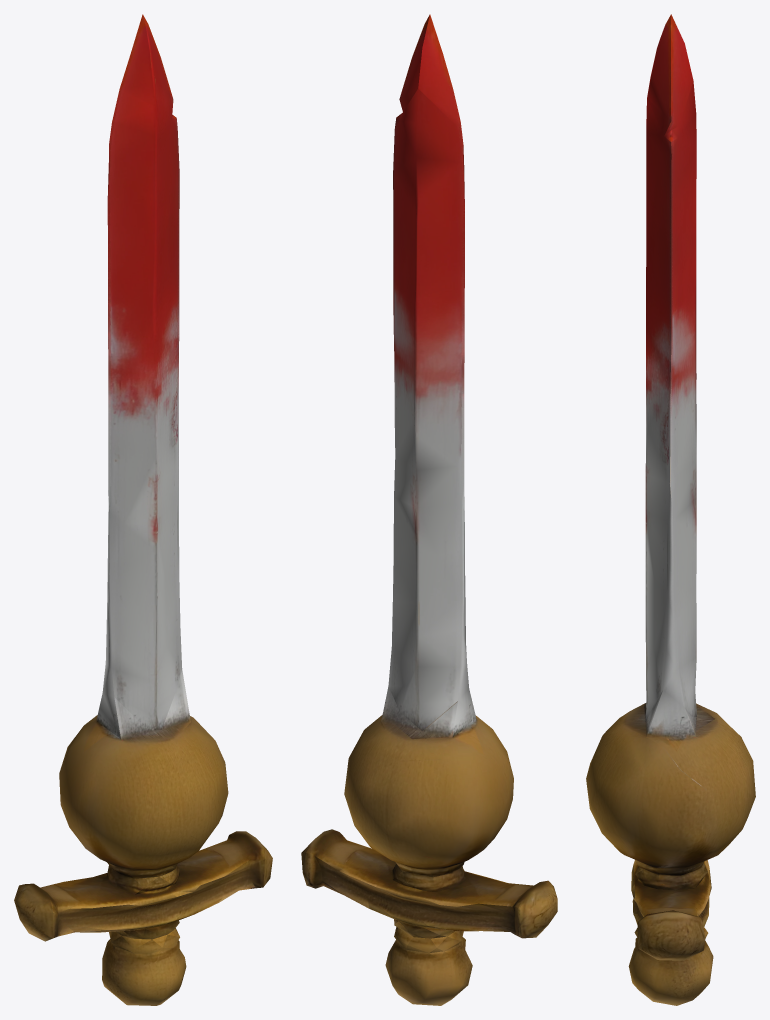
Rendered from wpn_sword1.glb.
The picture shows the model from 3 angles, left to right: view 1: azimuth 30°, elevation 25°; view 2: azimuth 150°, elevation 25°; view 3: azimuth 270°, elevation 25°; orthographic projection.
Bounding box in the file's own units: 0.4965 × 1.91 × 0.2989.
Materials: 1 (1 with a texture image).
